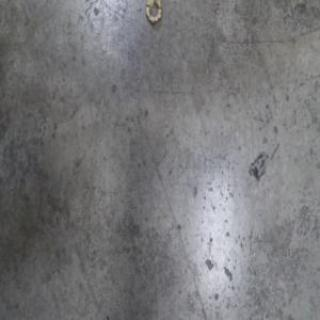Nuttrack_idkeyframe: (144, 0, 162, 28)
